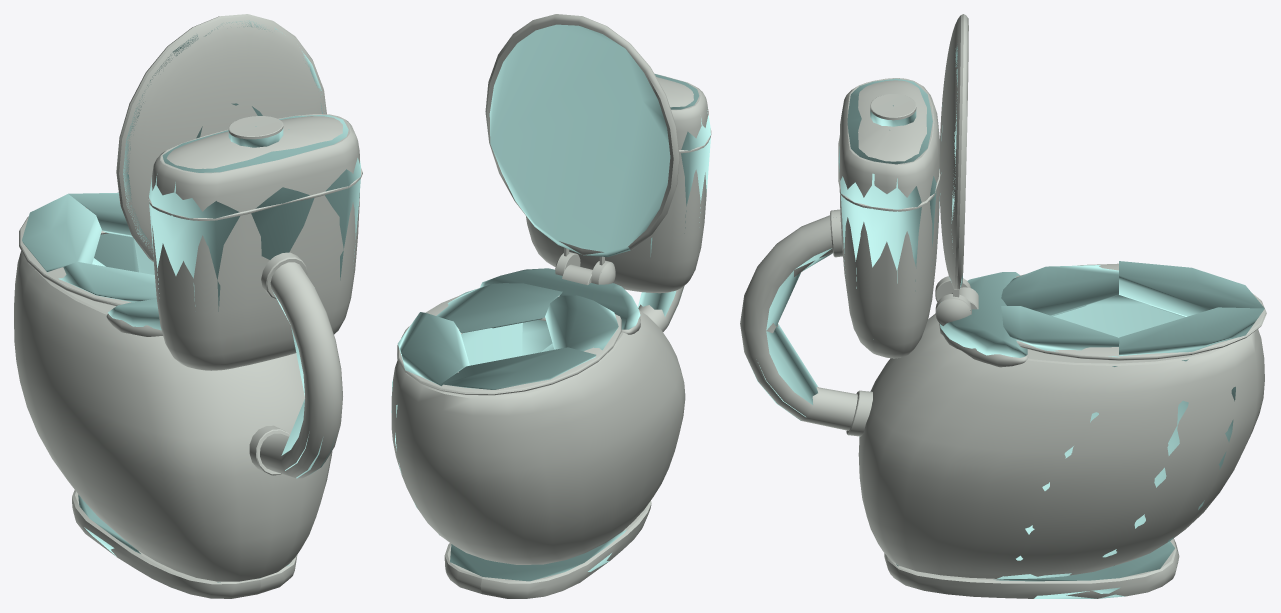
Rendered from toilet.fbx.
The picture shows the model from 3 angles, left to right: view 1: azimuth 30°, elevation 25°; view 2: azimuth 150°, elevation 25°; view 3: azimuth 270°, elevation 25°; orthographic projection. The views are drawn at different scales.
Visible parts, largest first — view 1: toilet_body_reference, toilet_body_reference_physics, toilet_lid_reference, toilet_lid_reference_physics; view 2: toilet_body_reference, toilet_lid_reference_physics, toilet_body_reference_physics, toilet_lid_reference; view 3: toilet_body_reference, toilet_body_reference_physics, toilet_lid_reference.
Part boxes in pixels (left/top/right/bottom): toilet_body_reference: left=14, top=114, right=362, bottom=598; toilet_body_reference_physics: left=22, top=115, right=360, bottom=582; toilet_lid_reference: left=116, top=14, right=326, bottom=261; toilet_lid_reference_physics: left=123, top=20, right=322, bottom=250; toilet_body_reference: left=391, top=74, right=711, bottom=598; toilet_lid_reference_physics: left=489, top=24, right=670, bottom=263; toilet_body_reference_physics: left=391, top=73, right=710, bottom=581; toilet_lid_reference: left=485, top=14, right=679, bottom=284; toilet_body_reference: left=740, top=78, right=1266, bottom=598; toilet_body_reference_physics: left=751, top=78, right=1264, bottom=598; toilet_lid_reference: left=935, top=14, right=971, bottom=325.
Bounding box in the file's own units: 2323 × 5272 × 4629.
